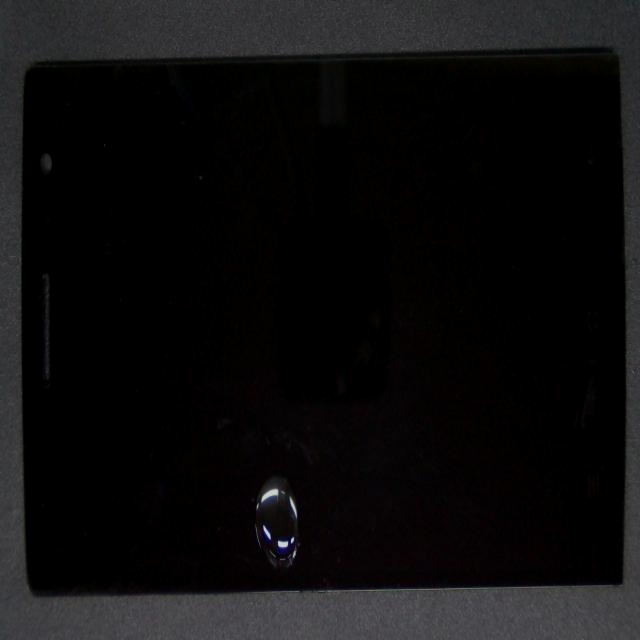oil: (168, 285, 466, 640)
